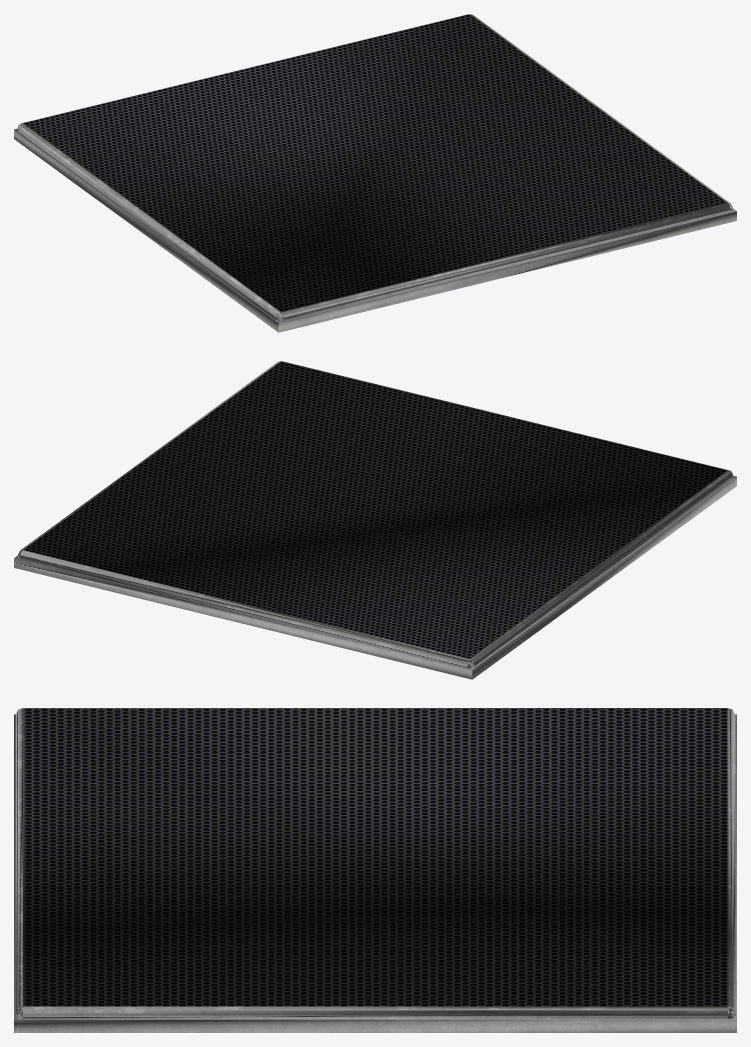
Rendered from floor.obj.
3 renders of one model, top to bottom at view 1: azimuth 30°, elevation 25°; view 2: azimuth 150°, elevation 25°; view 3: azimuth 270°, elevation 25°, orthographic. The views are drawn at different scales.
Visible parts, largest first — view 1: props; view 2: props; view 3: props.
Boxes of the visible parts, <box> form: props: <box>14,14,736,332</box>; props: <box>14,361,736,679</box>; props: <box>14,708,736,1032</box>.
Size of the model in its own units: 0.02 by 0.0007 by 0.02.
1 material, 1 textured.
